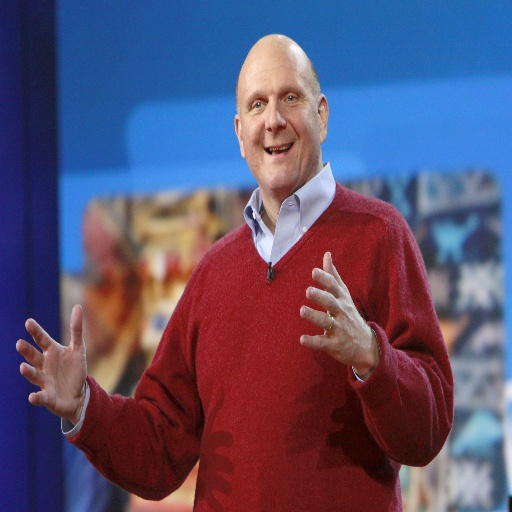hand: (20, 317, 99, 432), (298, 250, 370, 370)
